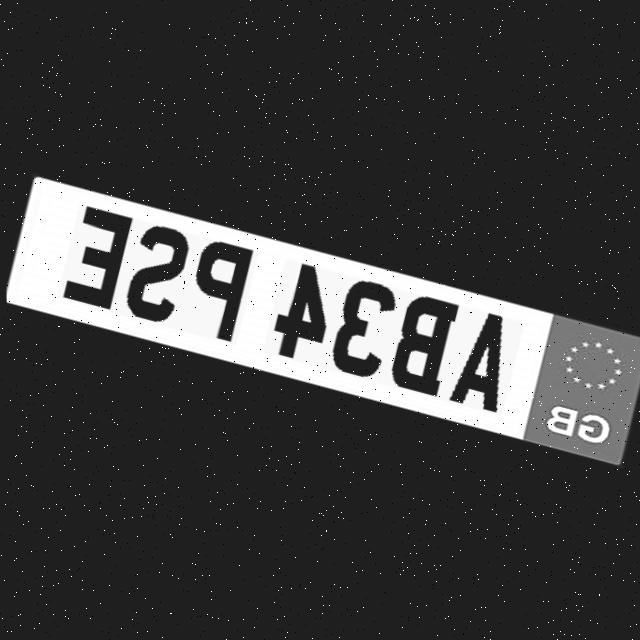license-plates: (6, 174, 640, 464)
